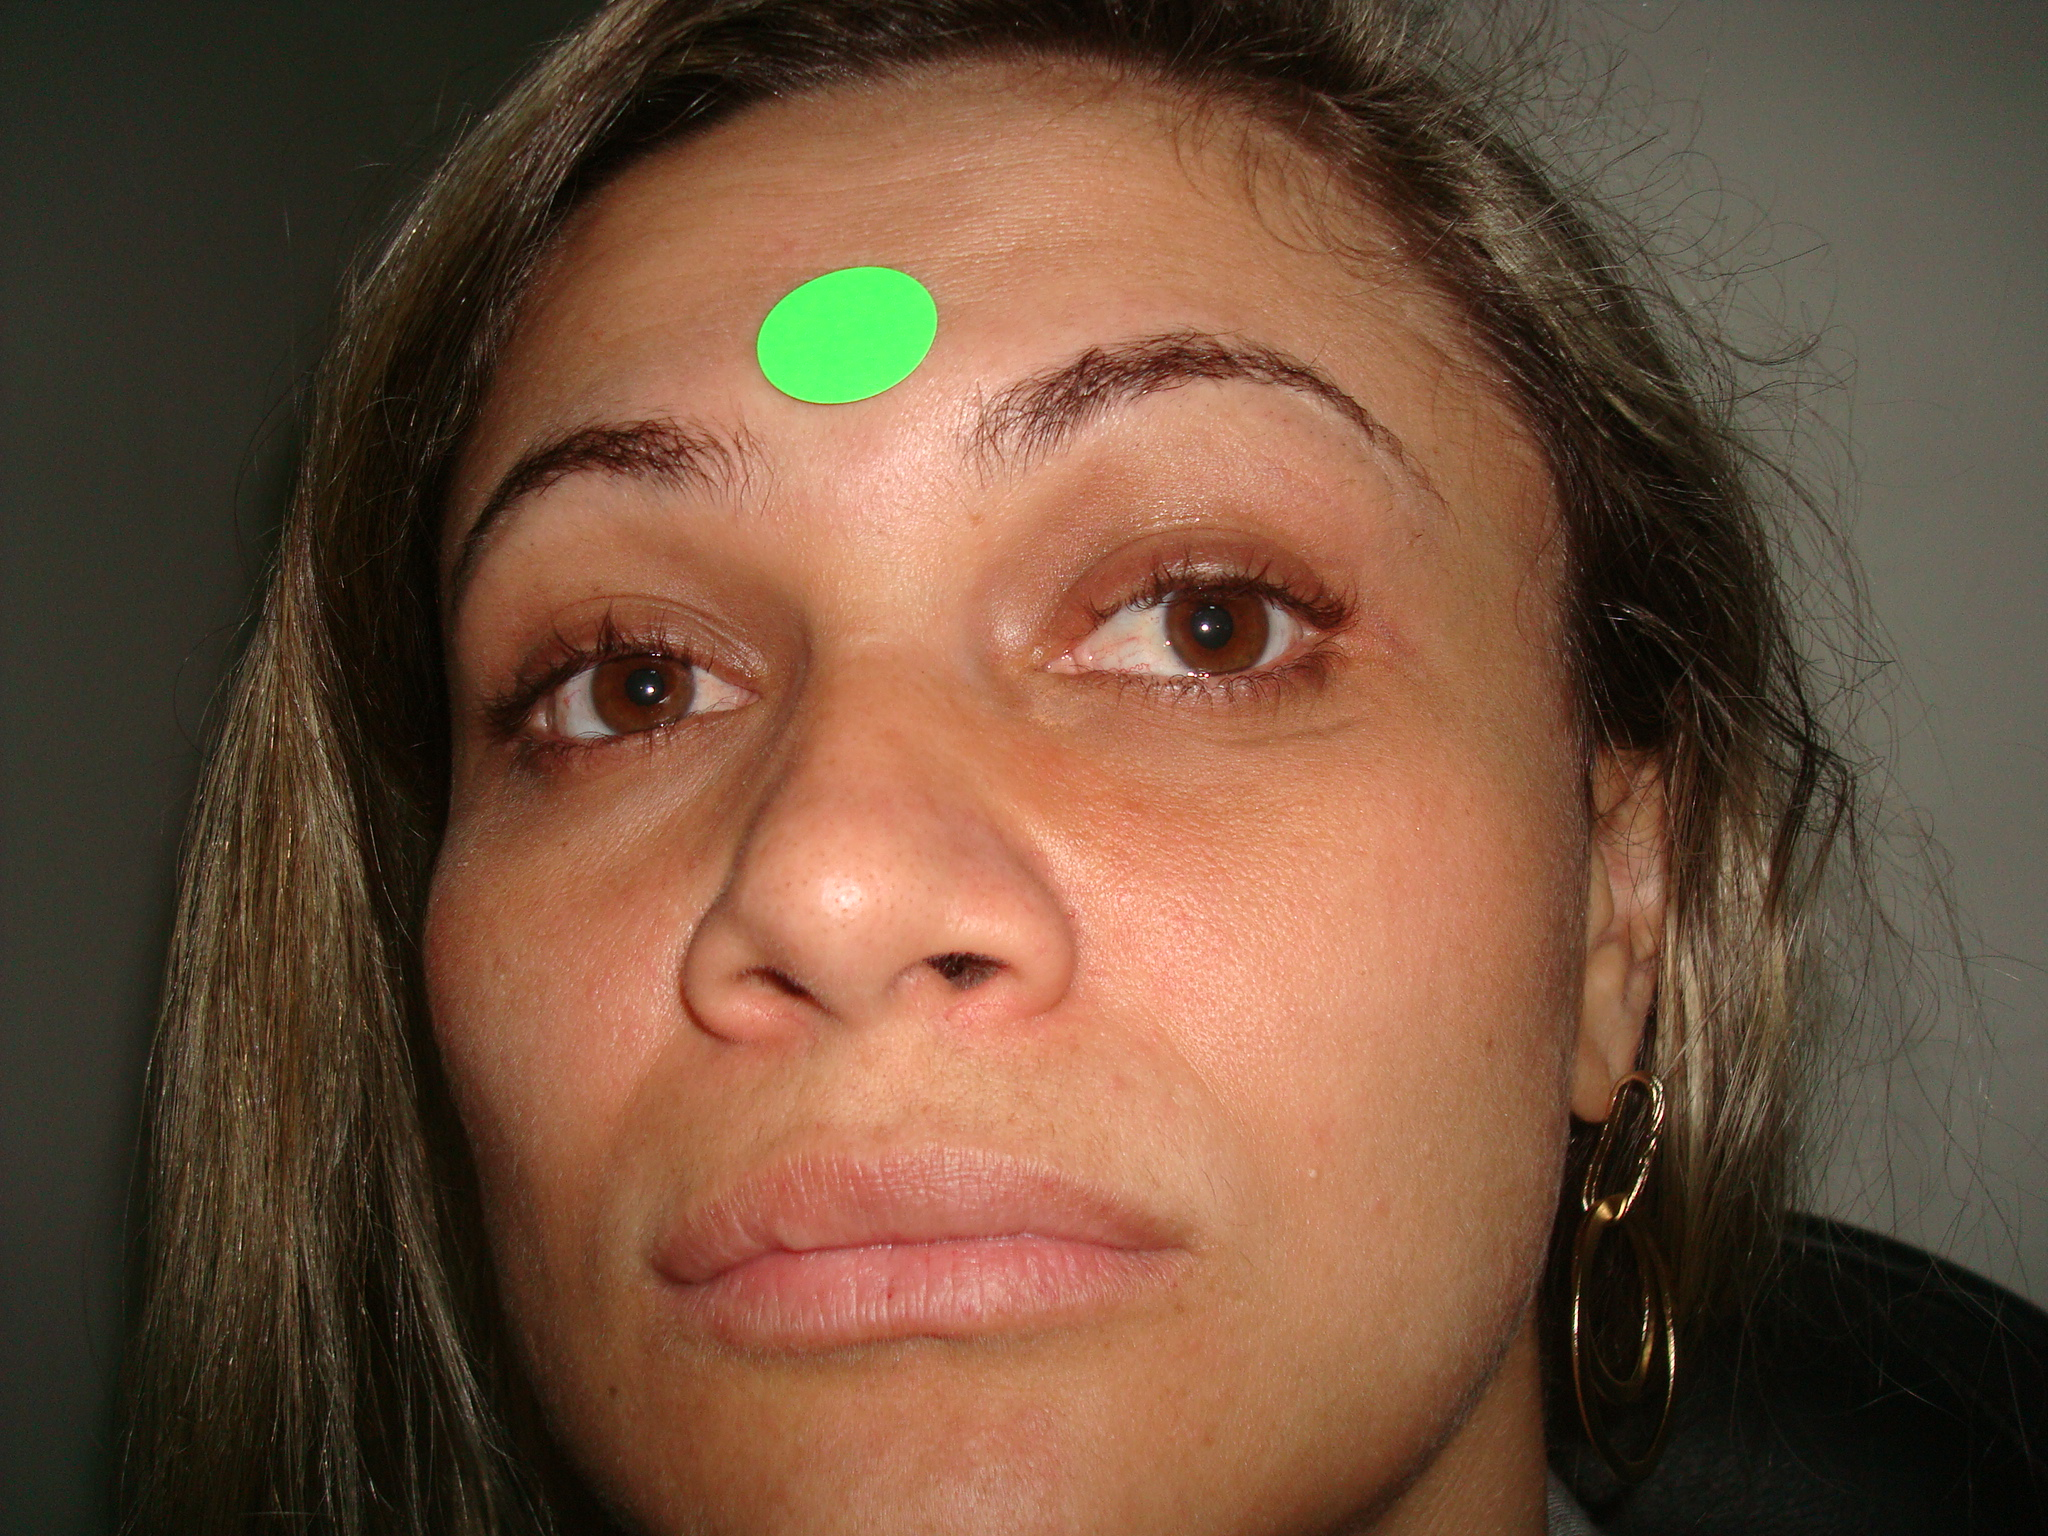flash: (645, 682, 658, 697), (1200, 621, 1211, 634)
limbo: (1159, 576, 1266, 678), (593, 645, 693, 734)
